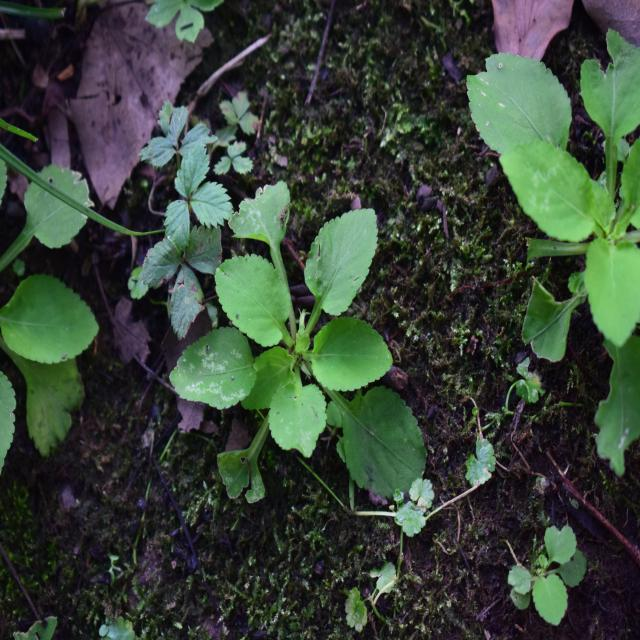Viola: (198, 211, 427, 484)
